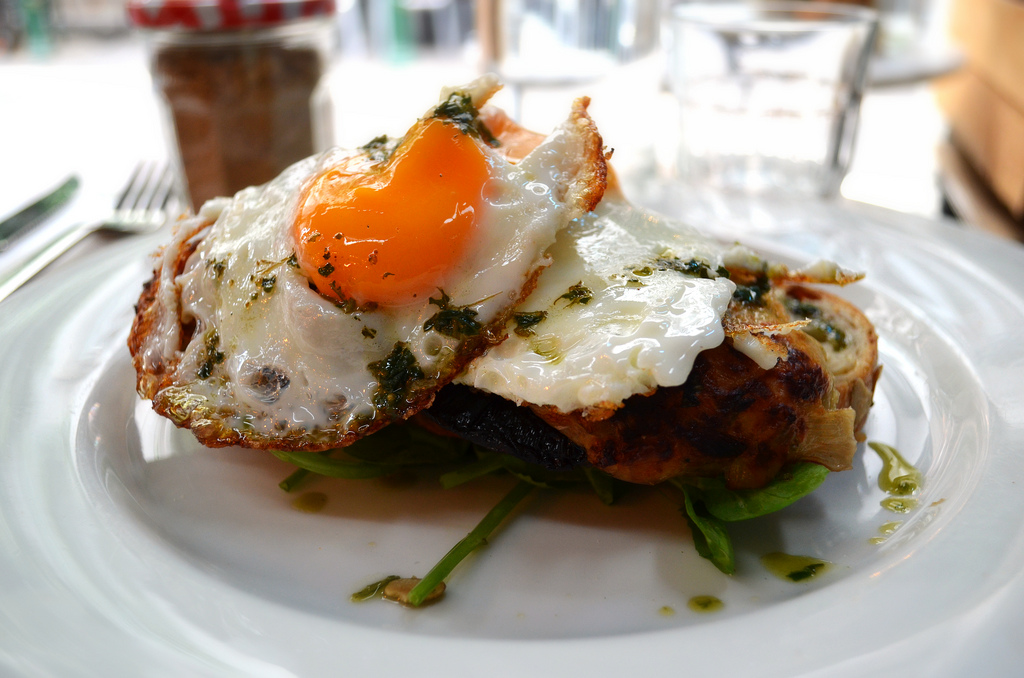fried egg: (171, 105, 588, 432), (492, 199, 777, 389)
slice of bread: (382, 346, 877, 489)
